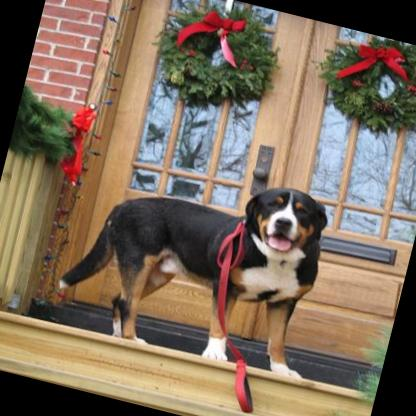Greater_Swiss_Mountain_dog: (52, 136, 368, 386)
